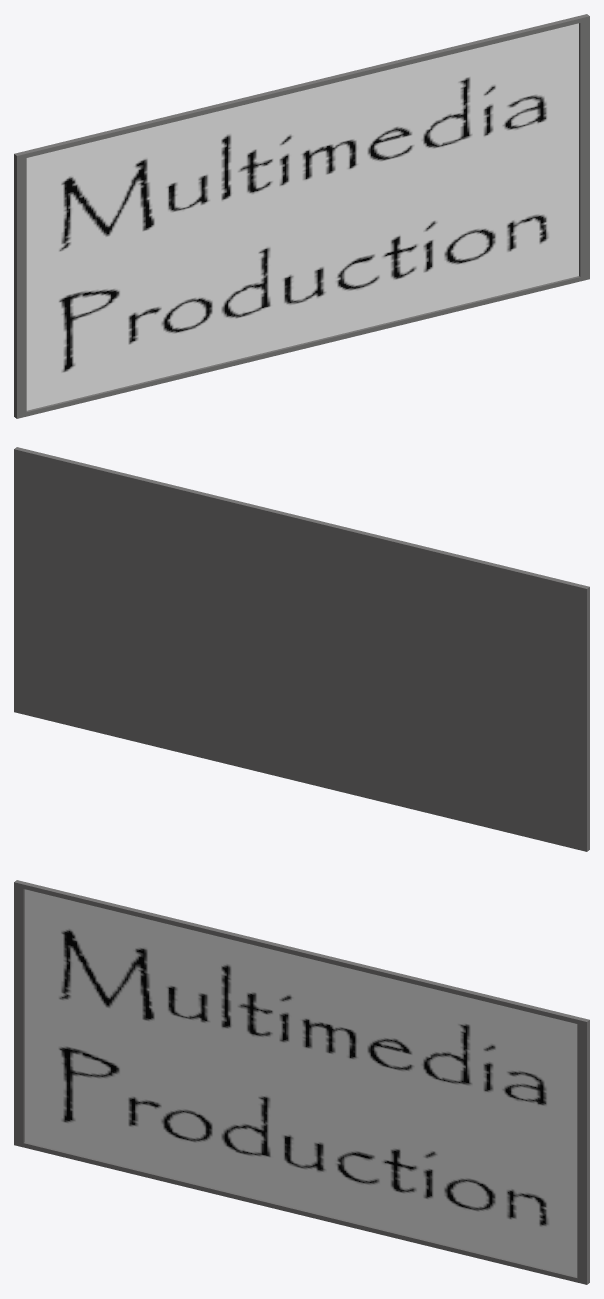
File: MMPBoard.gltf
3 renders of one model, top to bottom at view 1: azimuth 30°, elevation 25°; view 2: azimuth 150°, elevation 25°; view 3: azimuth 330°, elevation 25°, orthographic.
Parts seen in each view (by area): view 1: MMP Board; view 2: MMP Board; view 3: MMP Board.
Boxes of the visible parts, x1,y1,x2,y2 form: MMP Board: (14, 14, 589, 418); MMP Board: (14, 447, 589, 851); MMP Board: (14, 880, 589, 1284).
Size of the model in its own units: 4.56 by 2 by 0.0417.
1 material, 1 textured.
